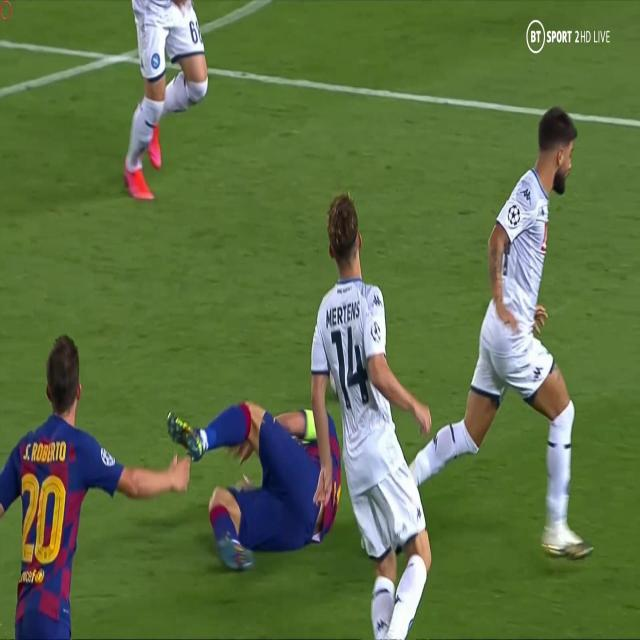player: (422, 94, 600, 564), (275, 204, 454, 640), (0, 339, 175, 635), (147, 362, 381, 570), (115, 0, 213, 194)
